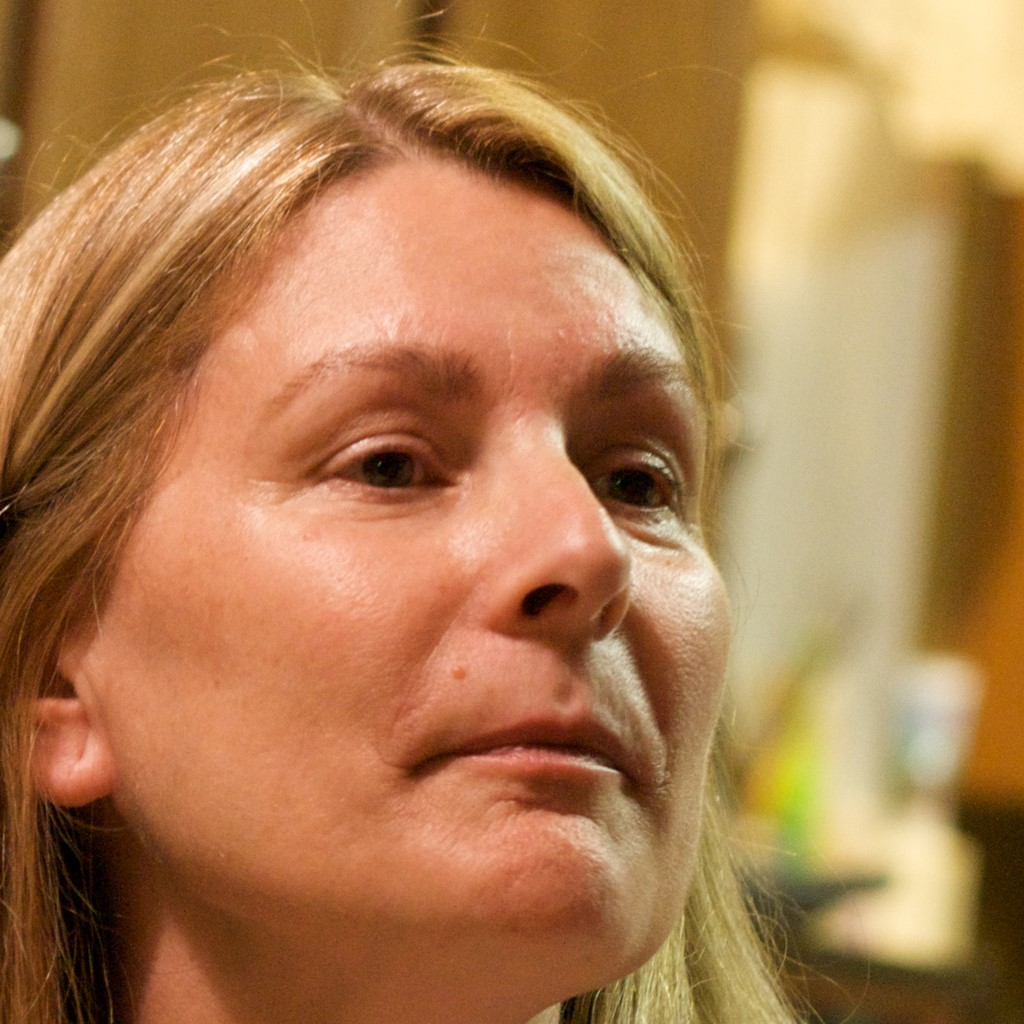sin_mascara: (113, 109, 725, 975)
